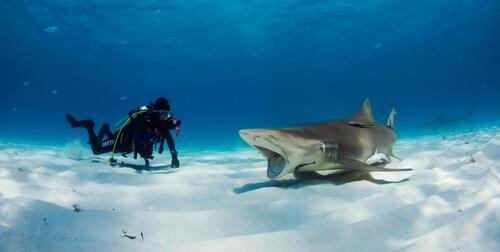shark: (239, 96, 413, 180)
